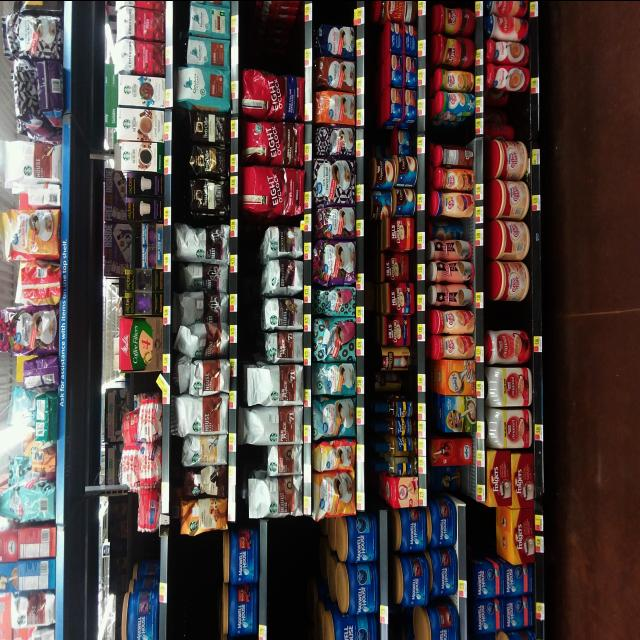empty_space: (250, 31, 303, 58), (489, 304, 528, 325), (321, 0, 353, 18)
